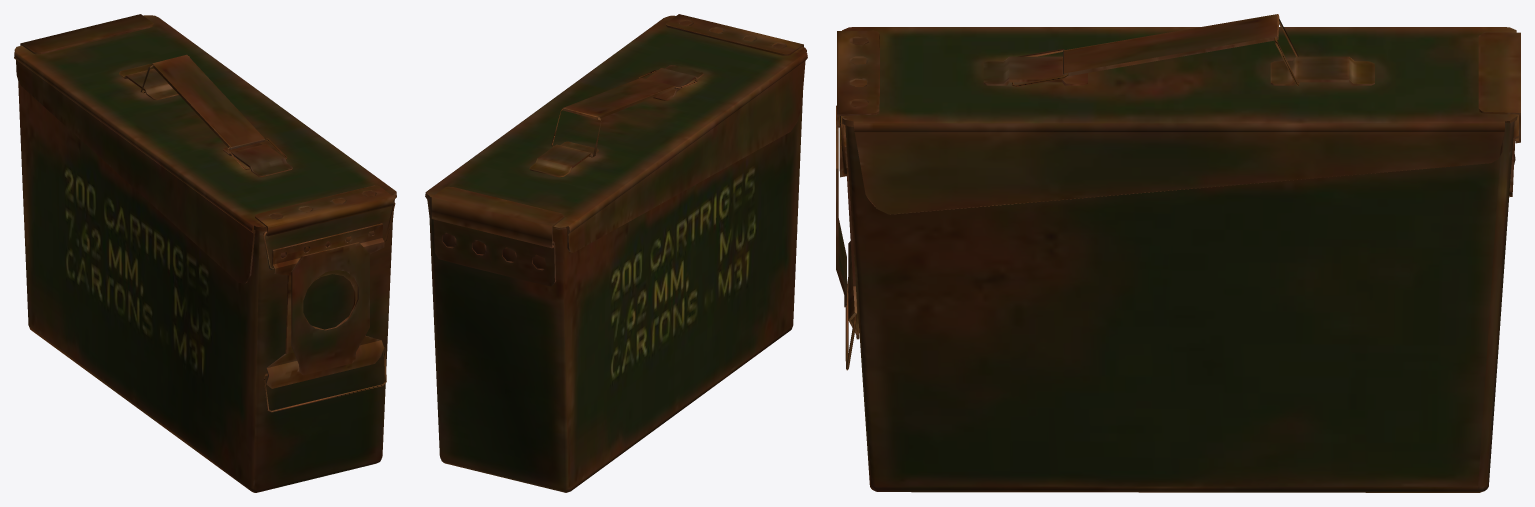
File: ammo.glb
The picture shows the model from 3 angles, left to right: view 1: azimuth 30°, elevation 25°; view 2: azimuth 150°, elevation 25°; view 3: azimuth 270°, elevation 25°; orthographic projection. The views are drawn at different scales.
Parts seen in each view (by area): view 1: ammo_box_handle_ring_b; view 2: ammo_box_handle_ring_b; view 3: ammo_box_handle_ring_b.
Part boxes in pixels (x1,y1,x2,y2): ammo_box_handle_ring_b: (14, 14, 396, 492); ammo_box_handle_ring_b: (425, 14, 807, 492); ammo_box_handle_ring_b: (836, 14, 1520, 492).
Size of the model in its own units: 0.0864 by 0.1773 by 0.2576.
1 material, 1 textured.
